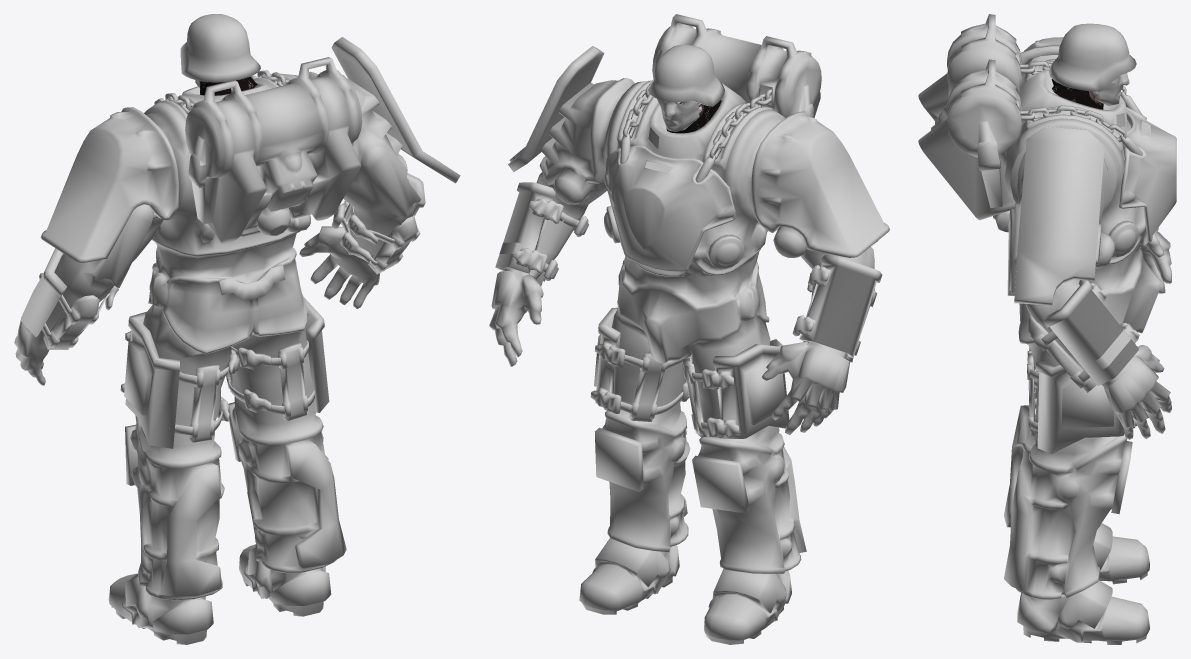
File: supersoldat60.dae
3 views of the same model, side by side, from view 1: azimuth 30°, elevation 25°; view 2: azimuth 150°, elevation 25°; view 3: azimuth 270°, elevation 25° (orthographic). The views are drawn at different scales.
Visible parts, largest first — view 1: supersoldat60; view 2: supersoldat60; view 3: supersoldat60, supersoldat60-face.
Boxes of the visible parts, <box> form: supersoldat60: <box>14,14,460,644</box>; supersoldat60: <box>489,14,889,644</box>; supersoldat60: <box>918,14,1176,644</box>; supersoldat60-face: <box>1051,79,1103,109</box>.
Size of the model in its own units: 47.32 by 27.45 by 67.37.
